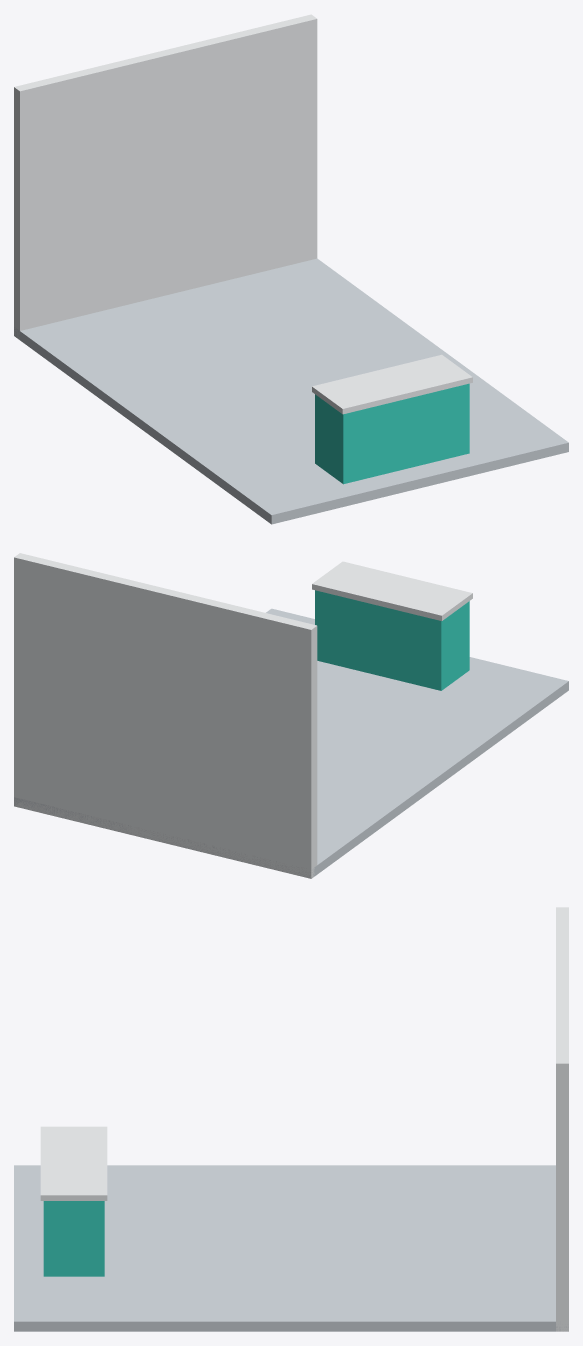
3 views of the same model, one above another, from view 1: azimuth 30°, elevation 25°; view 2: azimuth 150°, elevation 25°; view 3: azimuth 270°, elevation 25° (orthographic). The views are drawn at different scales.
Parts seen in each view (by area): view 1: Exhibition Booth Concept; view 2: Exhibition Booth Concept; view 3: Exhibition Booth Concept.
Part boxes in pixels (box(x1,y1,x2,y2)): Exhibition Booth Concept: box(14, 14, 568, 524); Exhibition Booth Concept: box(14, 553, 568, 878); Exhibition Booth Concept: box(14, 907, 568, 1331).
Bounding box in the file's own units: 4 × 3.2 × 6.
